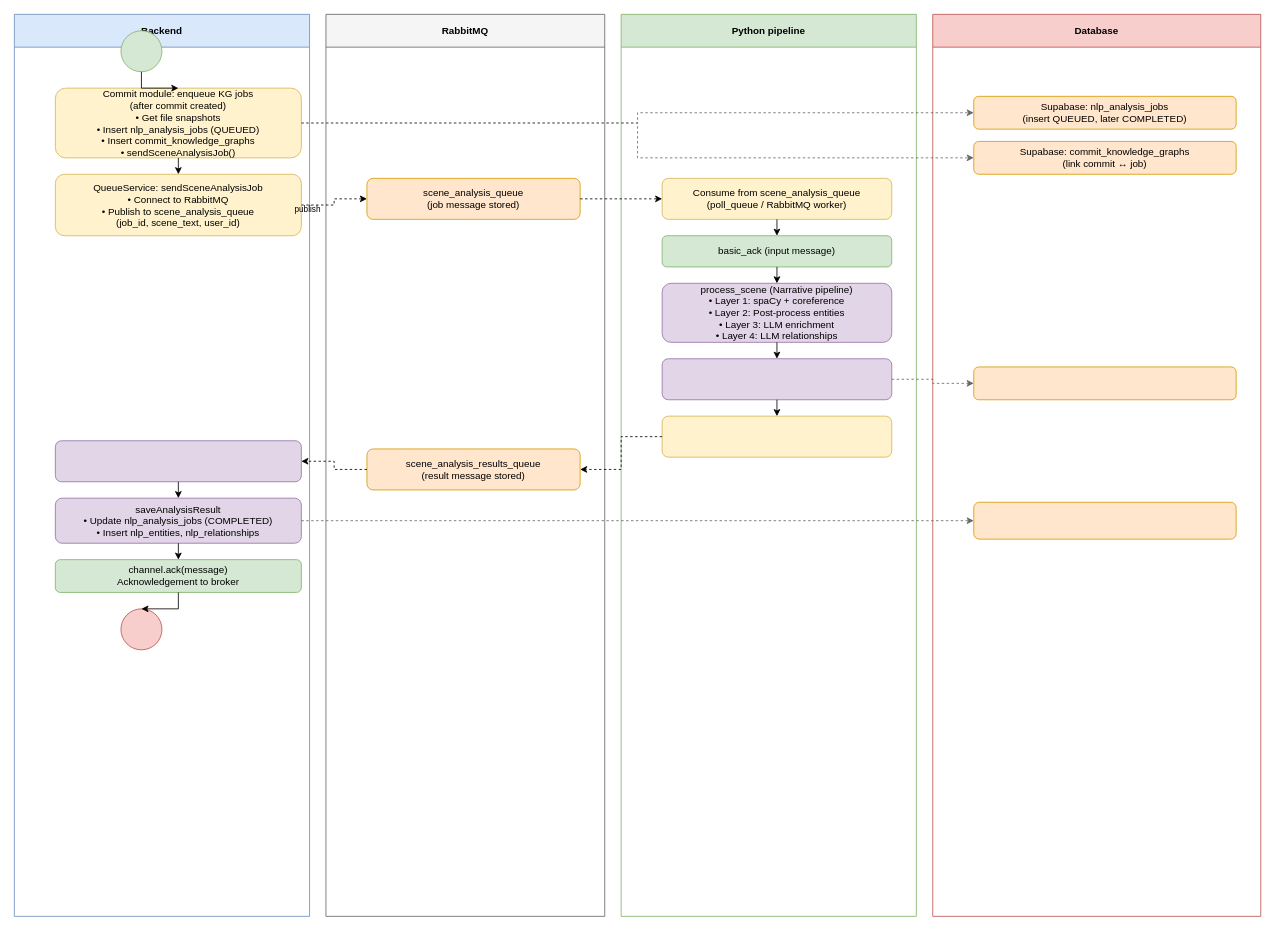
This 1275x931 diagram has some shape labels left out. Here are the shapes that lost their labels. From the top down, the centre of each, then its label:
At point (141, 51): "Start".
At point (776, 379): "Layer 5: save_graph_layer5 Write entities & relationships to Neo4j".
At point (1104, 383): "Neo4j: Knowledge graph (Scene, Entity nodes; Relationship edges)".
At point (776, 436): "Publish result to scene_analysis_results_queue (job_id, status, result)".
At point (178, 461): "NLP Consumer: receive result from scene_analysis_results_queue".
At point (1104, 520): "Supabase: nlp_analysis_jobs update, nlp_entities, nlp_relationships insert".
At point (141, 629): "End".
